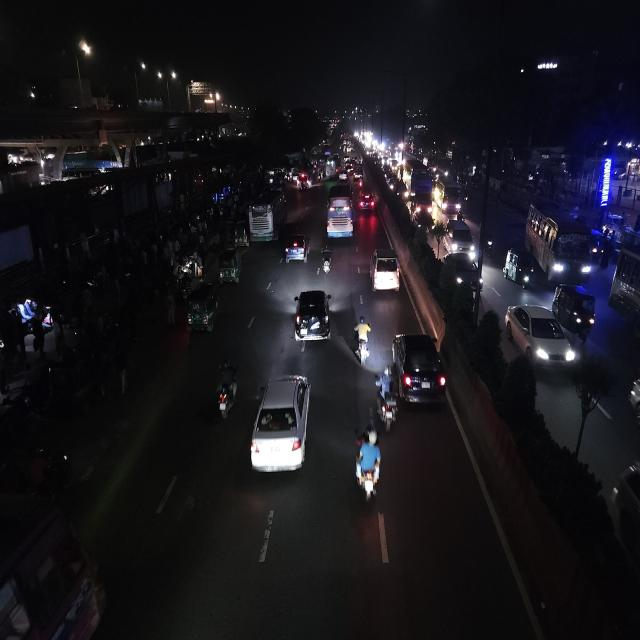bus: (524, 199, 596, 282), (247, 189, 287, 243), (323, 183, 355, 244), (440, 180, 464, 217)
car: (248, 369, 316, 482), (504, 301, 578, 376), (391, 327, 448, 412), (292, 286, 334, 347), (368, 243, 402, 300), (440, 252, 484, 296), (442, 218, 478, 262), (281, 228, 310, 266), (357, 183, 376, 215), (412, 208, 435, 234)
cng: (550, 282, 598, 333), (184, 277, 221, 337), (502, 244, 534, 292), (218, 246, 244, 285), (233, 221, 249, 250)
motorcycle: (352, 421, 384, 506), (213, 356, 240, 425), (374, 367, 398, 432), (351, 313, 373, 366), (481, 224, 497, 258), (319, 242, 334, 278)
truck: (408, 176, 434, 214)
